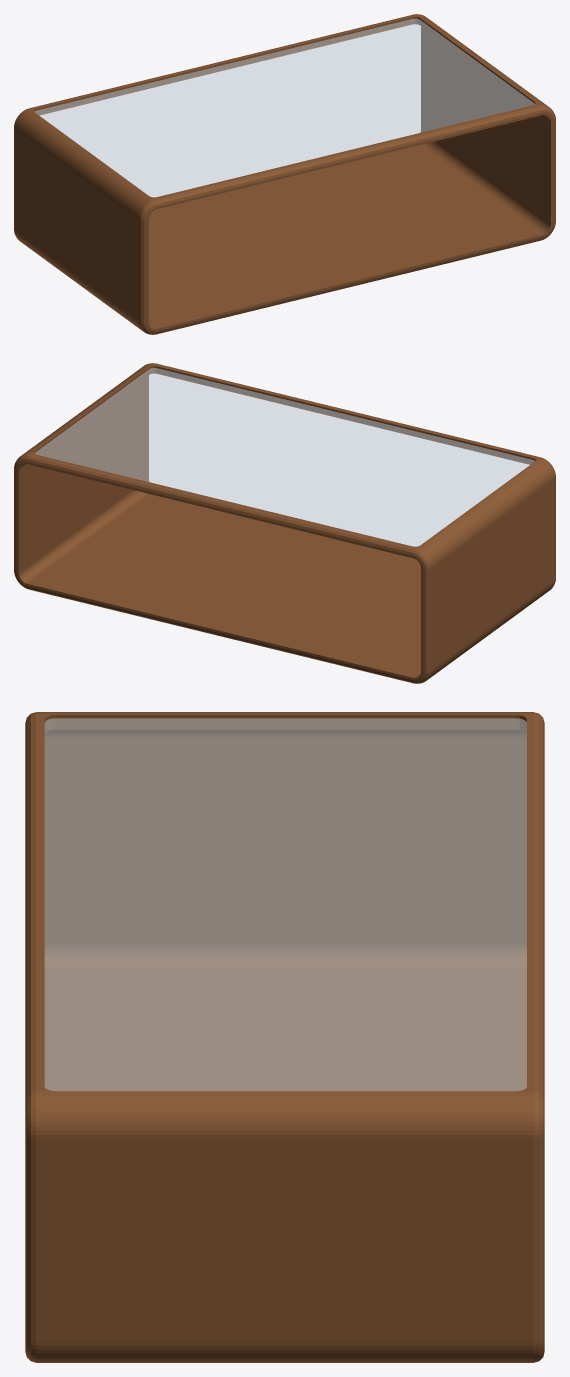
Rendered from forma-glass-table.glb.
The picture shows the model from 3 angles, top to bottom: view 1: azimuth 30°, elevation 25°; view 2: azimuth 150°, elevation 25°; view 3: azimuth 270°, elevation 25°; orthographic projection. The views are drawn at different scales.
Parts seen in each view (by area): view 1: box, box.4; view 2: box, box.4; view 3: box, box.4.
Boxes of the visible parts, x1,y1,x2,y2 form: box: (14,14,555,334); box.4: (34,18,534,197); box: (14,363,555,683); box.4: (34,368,534,546); box: (25,712,544,1362); box.4: (44,718,526,1091).
Size of the model in its own units: 2.59 by 0.8 by 1.4.
